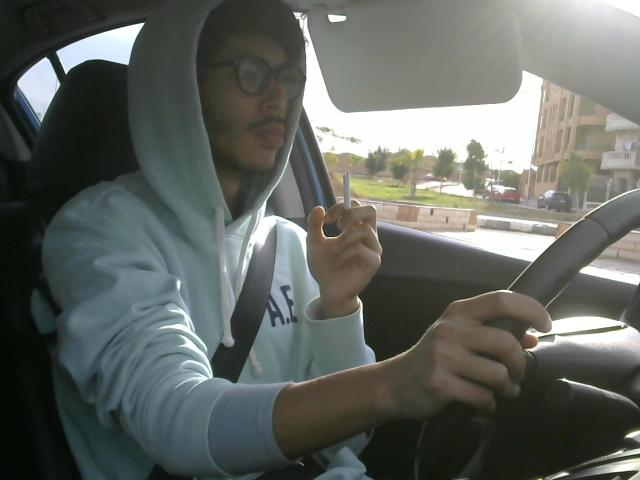Smoking: (339, 170, 353, 235)
